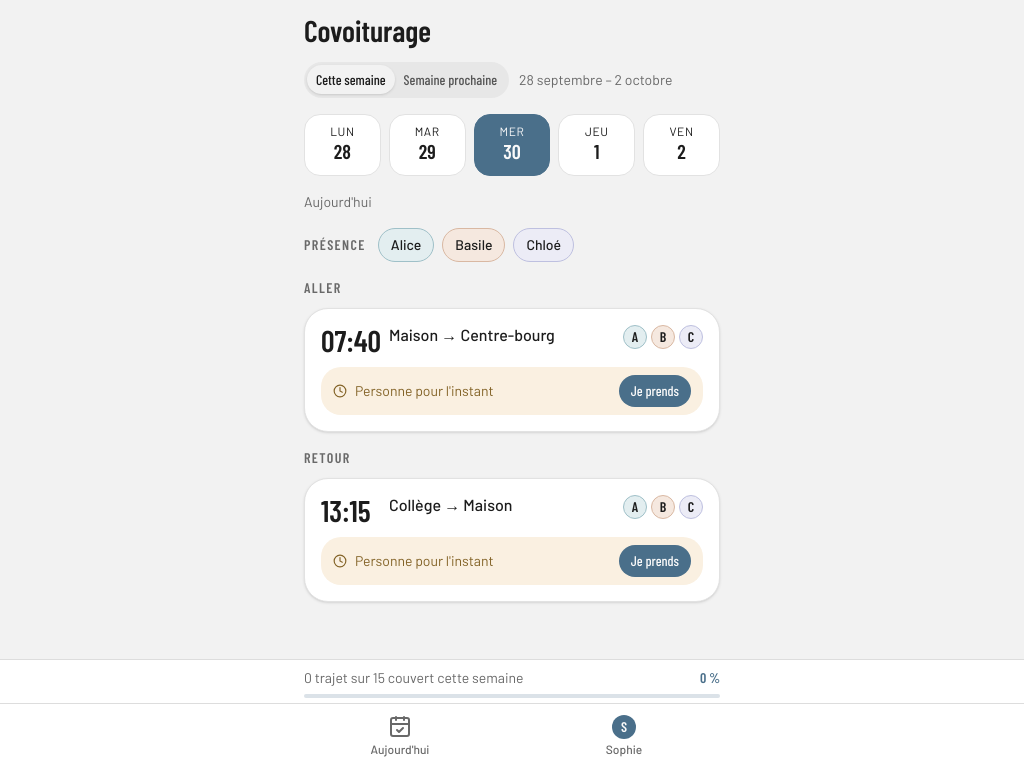
Test: actions de conducteur › annonce un trajet qui ne peut plus être modifié
What coordinates should you click on to do the following:
click the button with aria-label "Je prends — trajet de 07:40"
I would click on:
 (655, 390)
Its box is [619,374,691,406].
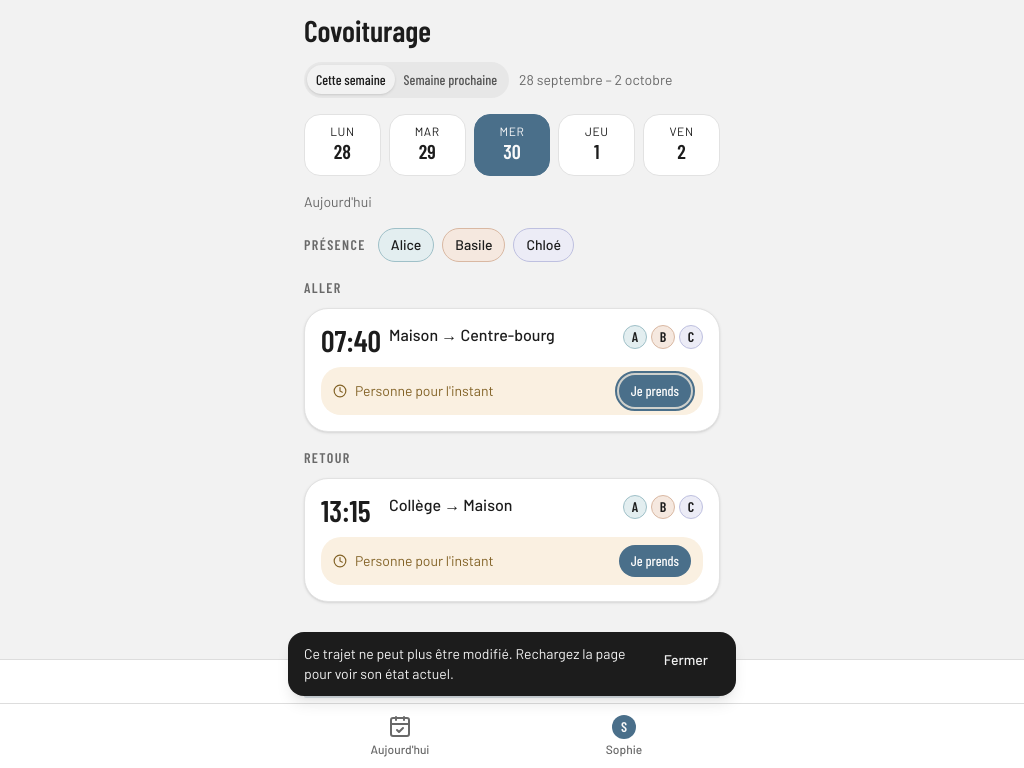
expect the message shows "Ce trajet ne peut plus être modifié. Rechargez la page pour voir son état actuel.": met, box [304,645,625,682]
